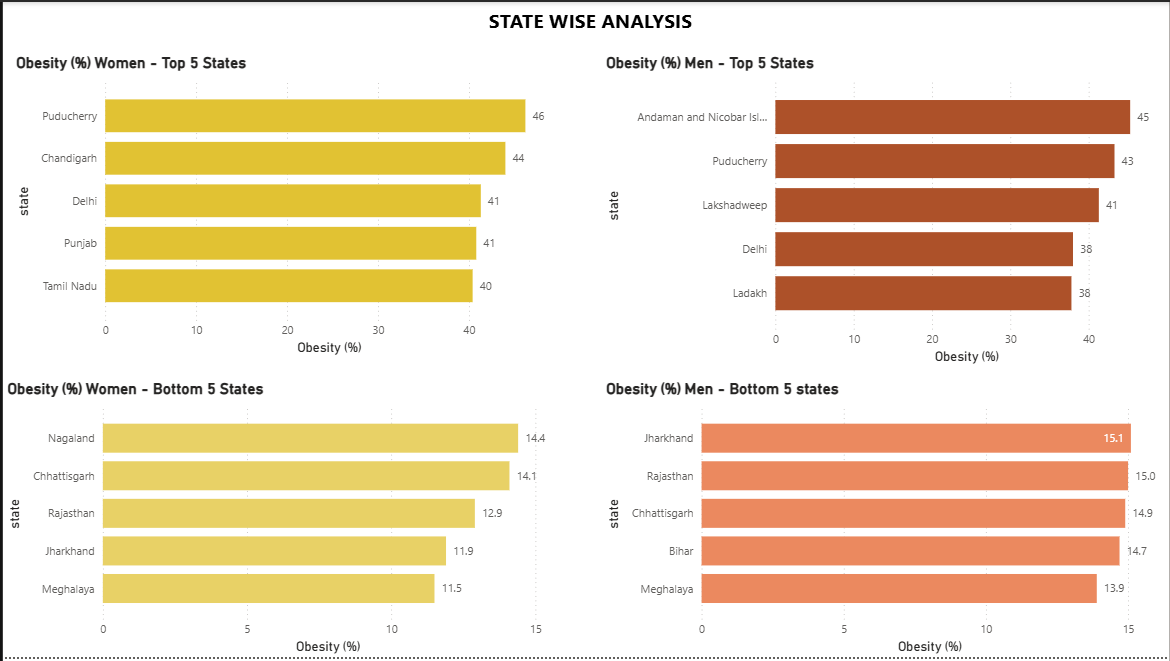

What the dashboard file says about the page in this screenshot:
{"tool":"powerbi","page":{"name":"State Analysis","canvas":[1280,720],"ordinal":1},"visuals":[{"type":"textbox","box":[9.6,0,1270.7,45.3],"z":0},{"type":"barChart","title":"Obesity (%) Women - Top 5 States","fields":{"Category":["obesity_cleaned.state"],"Y":["Avg(obesity_cleaned.overweight_obese_w)"]},"box":[9.6,56.3,606.5,336.2],"z":3},{"type":"barChart","title":"Obesity (%) Men - Top 5 States","fields":{"Category":["obesity_cleaned.state"],"Y":["Avg(obesity_cleaned.overweight_obese_m)"]},"box":[657.3,56.3,623,345.8],"z":4},{"type":"barChart","title":"Obesity (%) Women - Bottom 5 States","fields":{"Category":["obesity_cleaned.state"],"Y":["Avg(obesity_cleaned.overweight_obese_w)"]},"box":[0,414.4,616.1,306],"z":5},{"type":"barChart","title":"Obesity (%) Men - Bottom 5 states","fields":{"Category":["obesity_cleaned.state"],"Y":["Avg(obesity_cleaned.overweight_obese_m)"]},"box":[657,414,623,306],"z":6}]}

Visuals, with their boxes in screenshot pixels (x1, y1, x2, y2), scaled from the page's 1280x720 canvas onto the 1170x661 screenshot:
textbox: 9/0/1169/42
"Obesity (%) Women - Top 5 States" barChart: 9/52/563/360
"Obesity (%) Men - Top 5 States" barChart: 601/52/1169/369
"Obesity (%) Women - Bottom 5 States" barChart: 0/380/563/660
"Obesity (%) Men - Bottom 5 states" barChart: 601/380/1169/660
